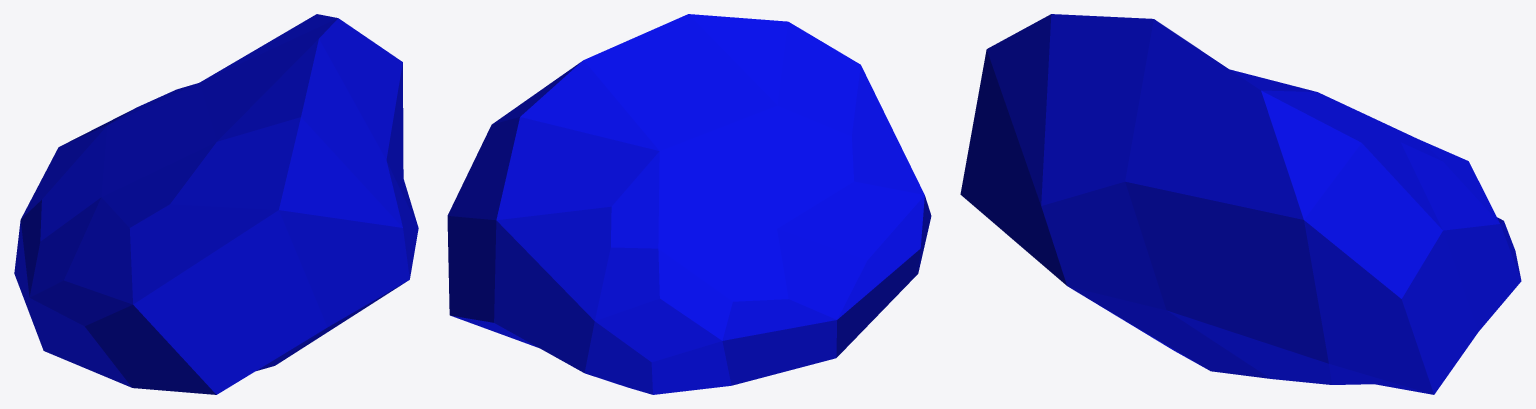
Rendered from SM_Big_RoundStone1_var1.fbx.
3 renders of one model, left to right at view 1: azimuth 30°, elevation 25°; view 2: azimuth 150°, elevation 25°; view 3: azimuth 270°, elevation 25°, orthographic. The views are drawn at different scales.
Visible parts, largest first — view 1: SM_Big_RoundStone1; view 2: SM_Big_RoundStone1; view 3: SM_Big_RoundStone1.
Boxes of the visible parts, bbox=[...] form: SM_Big_RoundStone1: bbox=[14, 14, 418, 394]; SM_Big_RoundStone1: bbox=[447, 14, 931, 394]; SM_Big_RoundStone1: bbox=[960, 14, 1521, 394].
Size of the model in its own units: 176 by 132 by 192.
